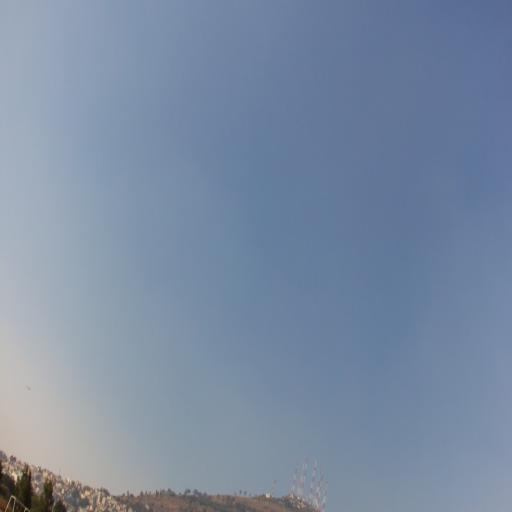drones: (26, 385, 32, 392)
